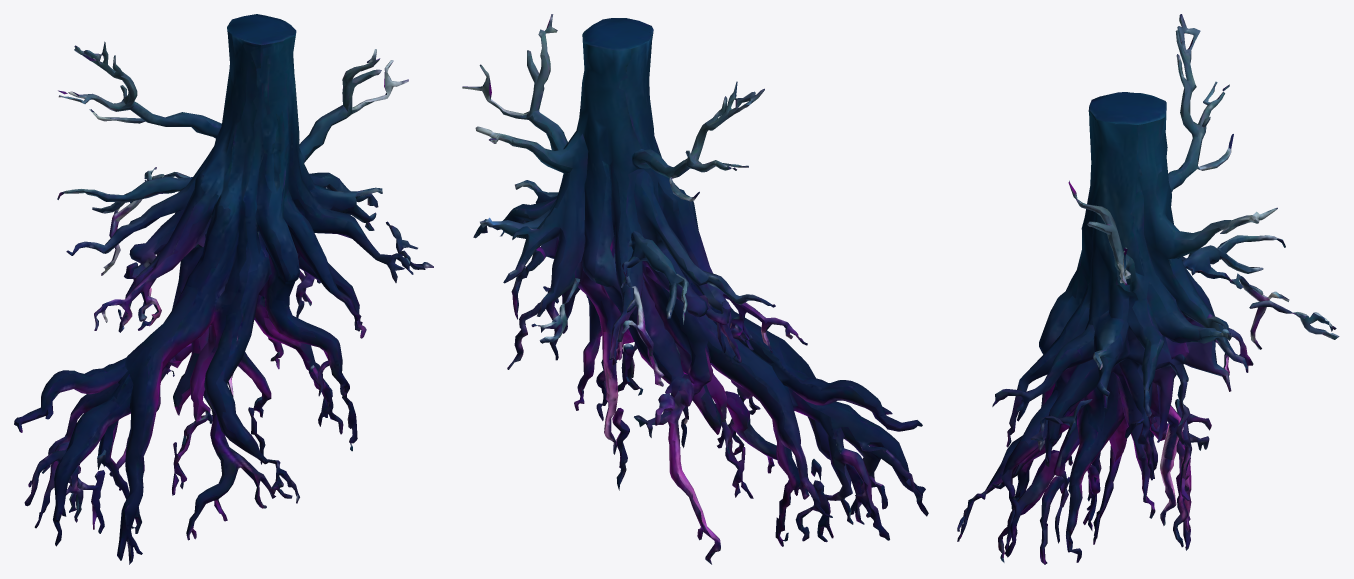
Rendered from sea-root-east-generated-2026-05-17T19-34-27-649Z.low.glb.
The picture shows the model from 3 angles, left to right: view 1: azimuth 30°, elevation 25°; view 2: azimuth 150°, elevation 25°; view 3: azimuth 270°, elevation 25°; orthographic projection. The views are drawn at different scales.
Parts seen in each view (by area): view 1: temp_mesh.ply; view 2: temp_mesh.ply; view 3: temp_mesh.ply.
Boxes of the visible parts, x1,y1,x2,y2 form: temp_mesh.ply: [14, 14, 433, 564]; temp_mesh.ply: [462, 14, 928, 564]; temp_mesh.ply: [957, 14, 1339, 564].
Bounding box in the file's own units: 1.82 × 1.97 × 1.31.
Materials: 1 (1 with a texture image).
